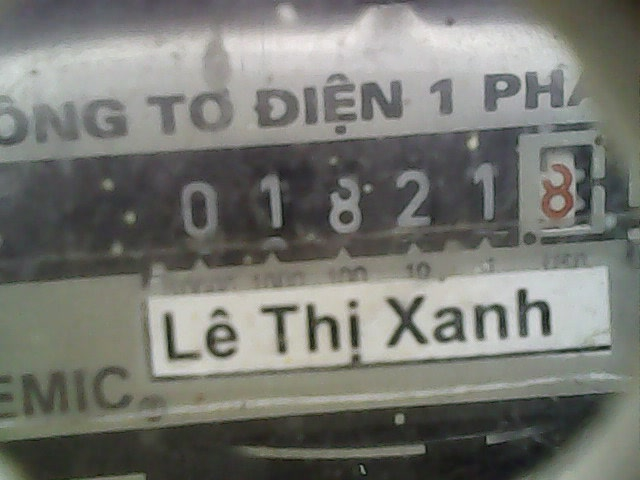phy_plate: (157, 130, 613, 257)
